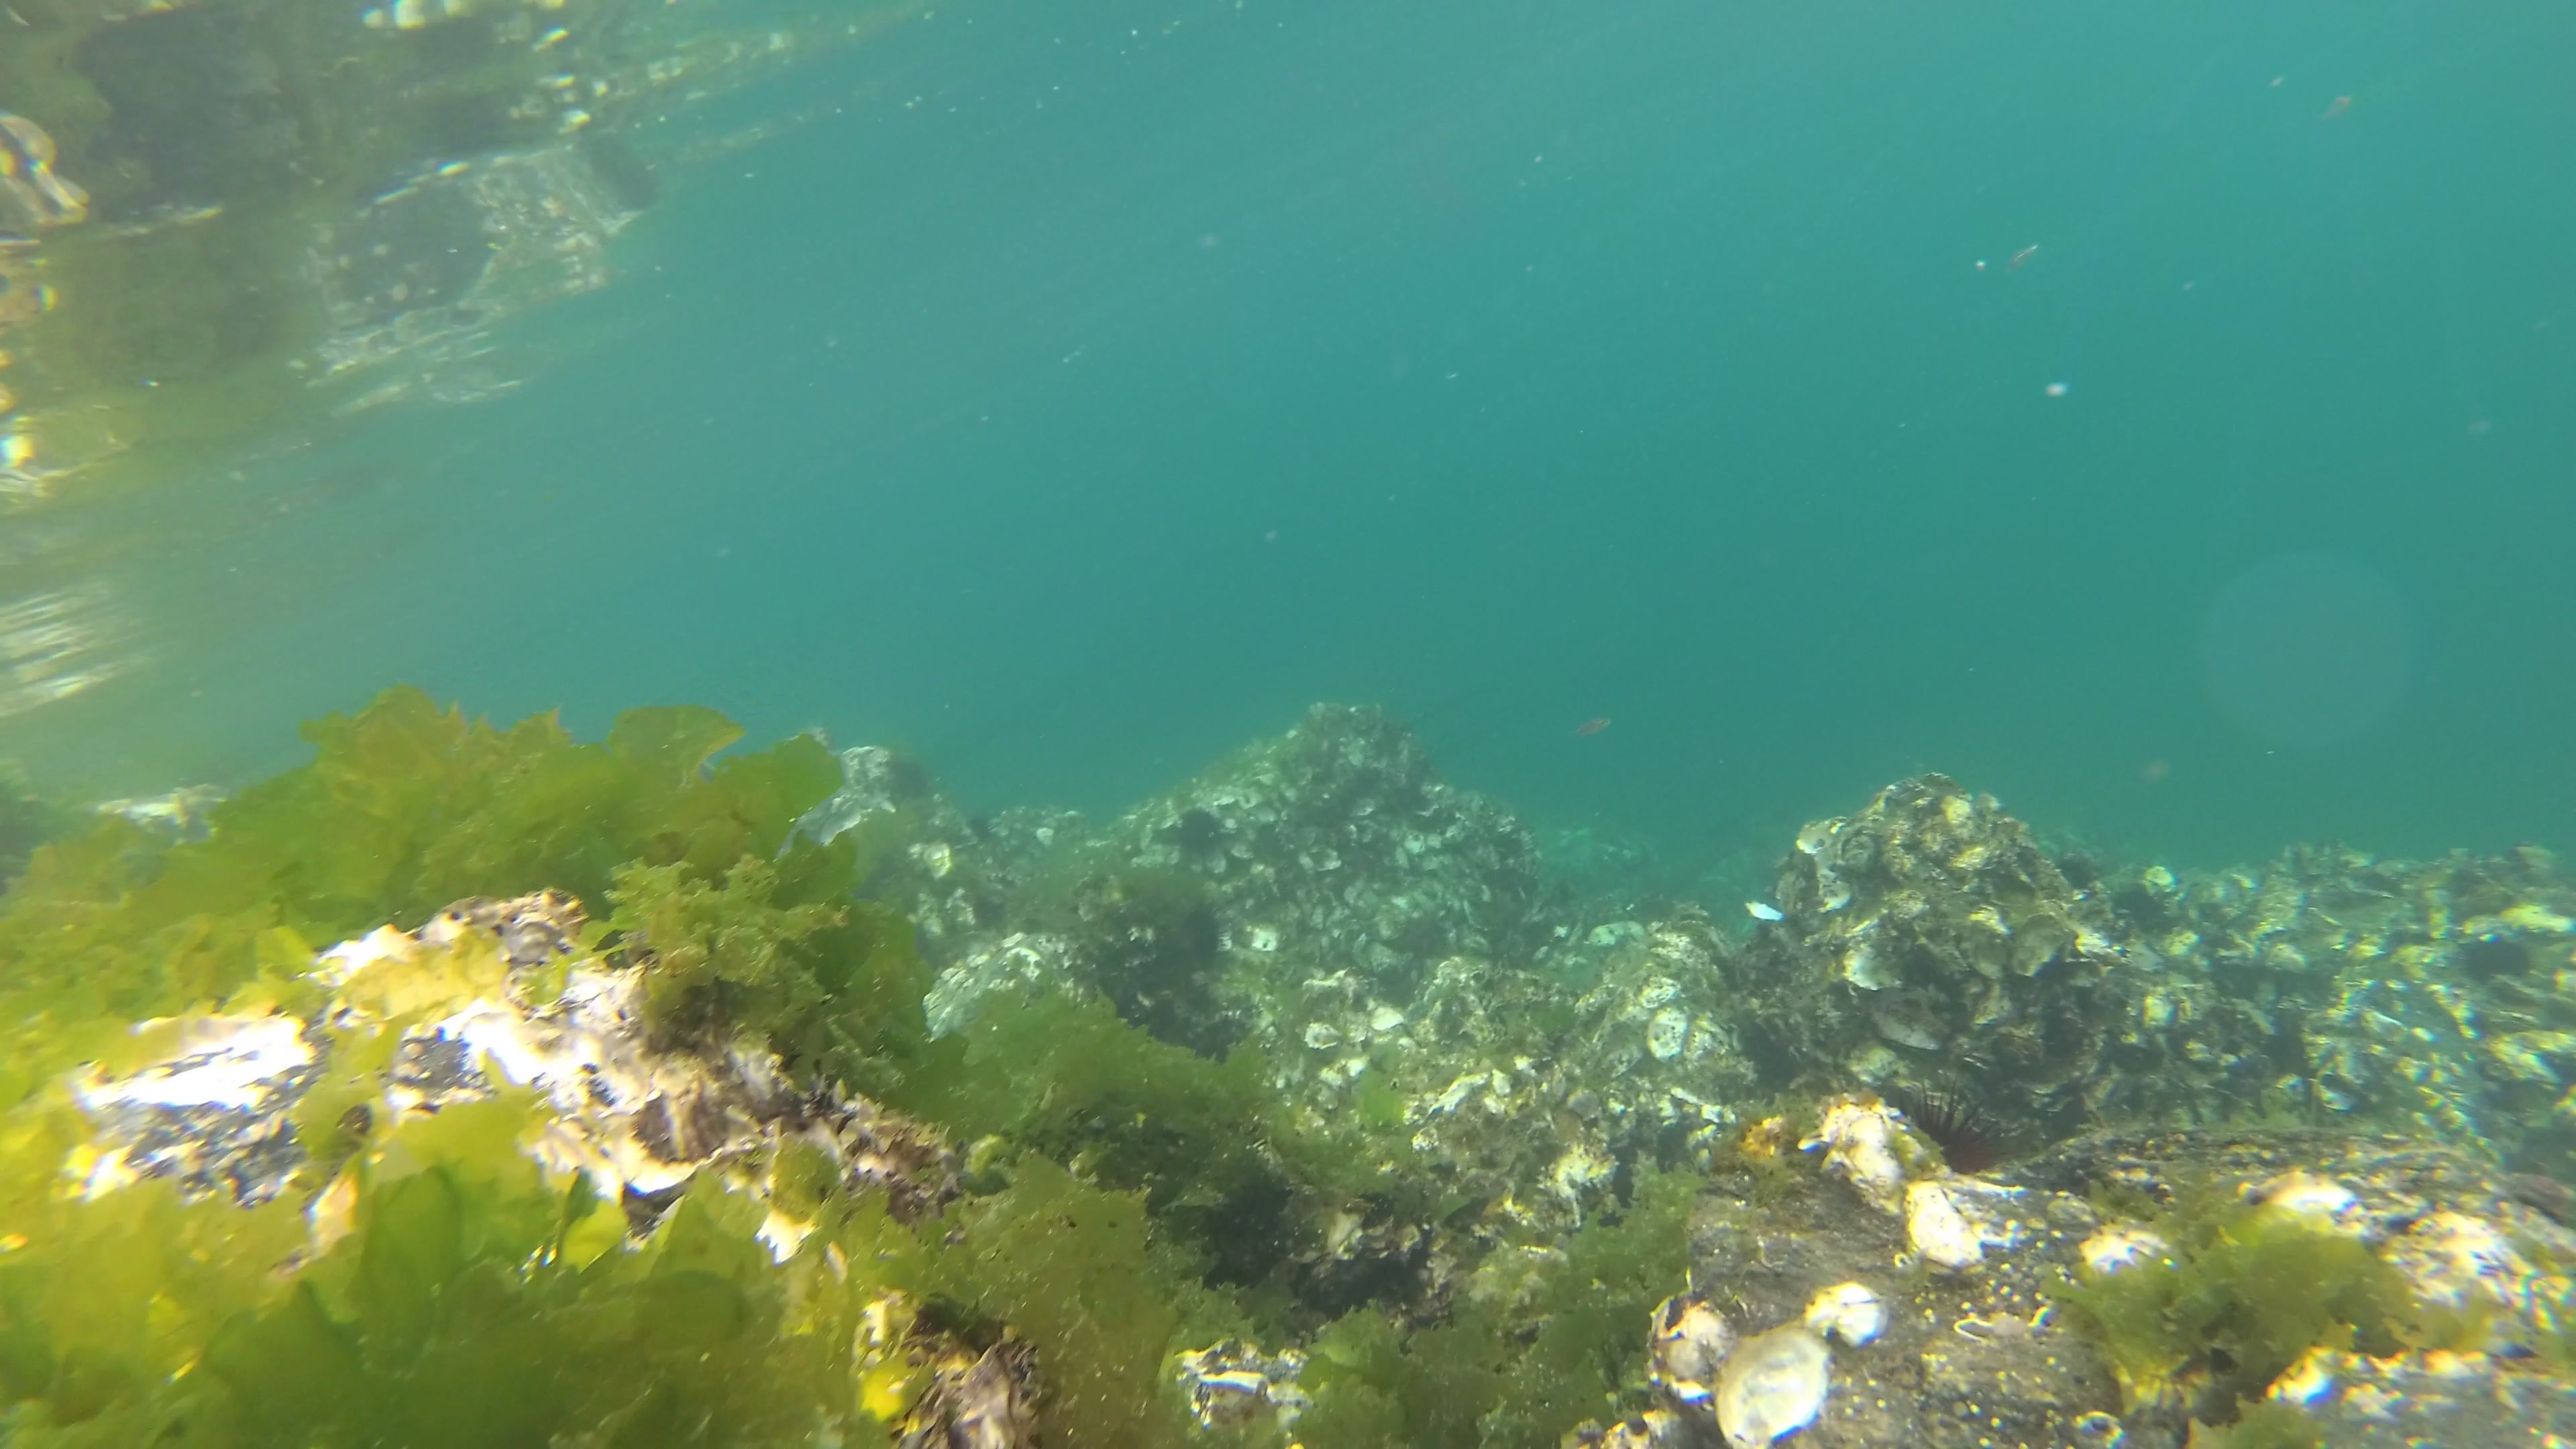echinus: (1882, 1065, 2015, 1182), (2457, 932, 2537, 987), (1177, 897, 1233, 971), (1169, 805, 1228, 858), (2109, 883, 2176, 927), (2045, 849, 2102, 893)
